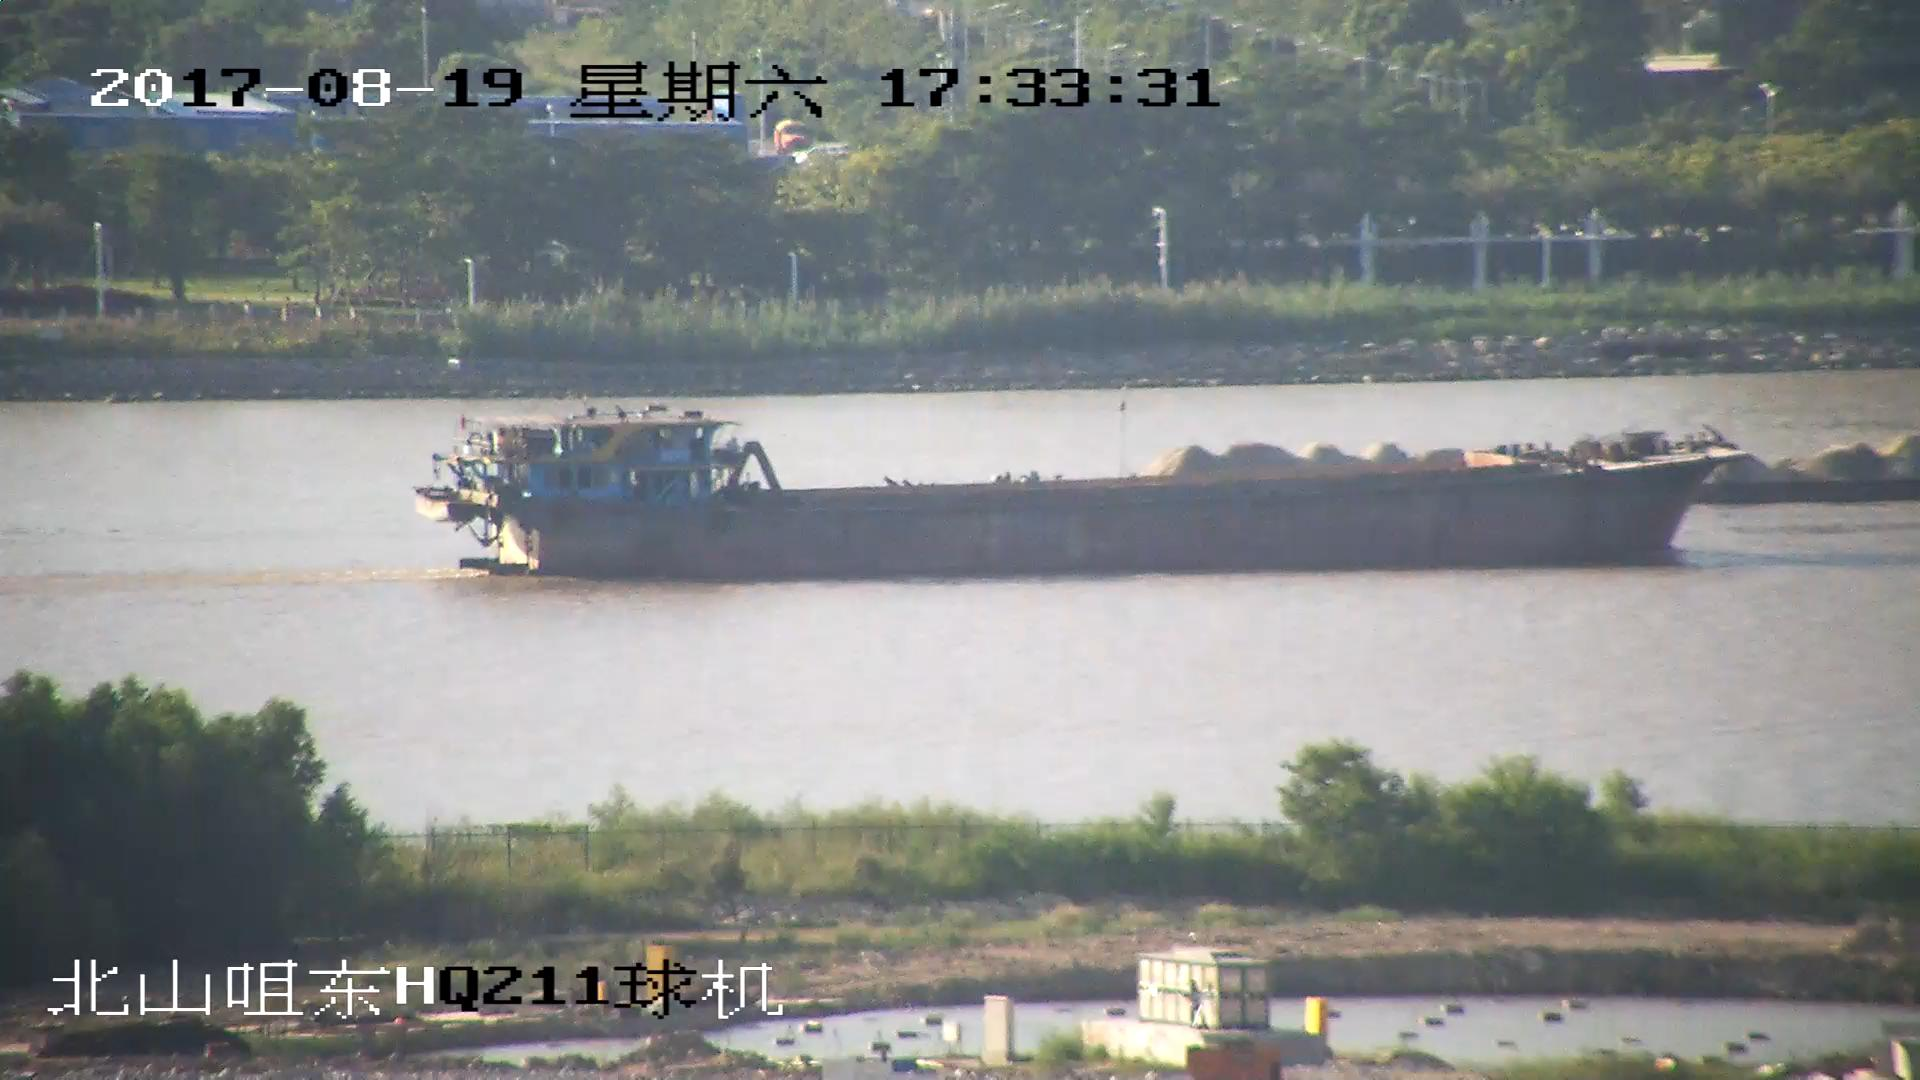bulk cargo carrier: (408, 418, 1746, 579)
ore carrier: (1676, 438, 1920, 506)
